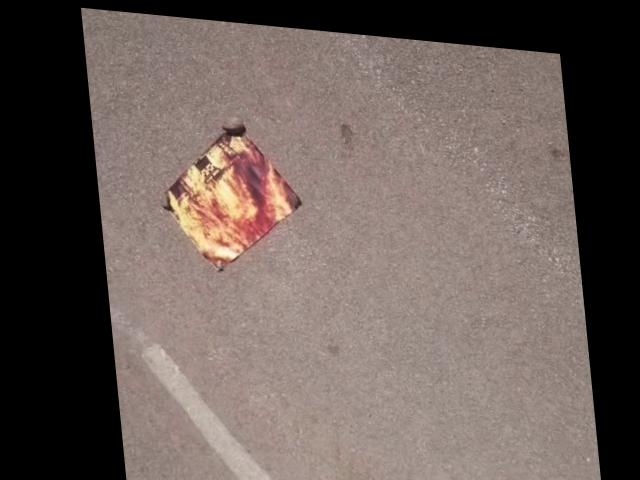fire-poster: (148, 112, 305, 277)
